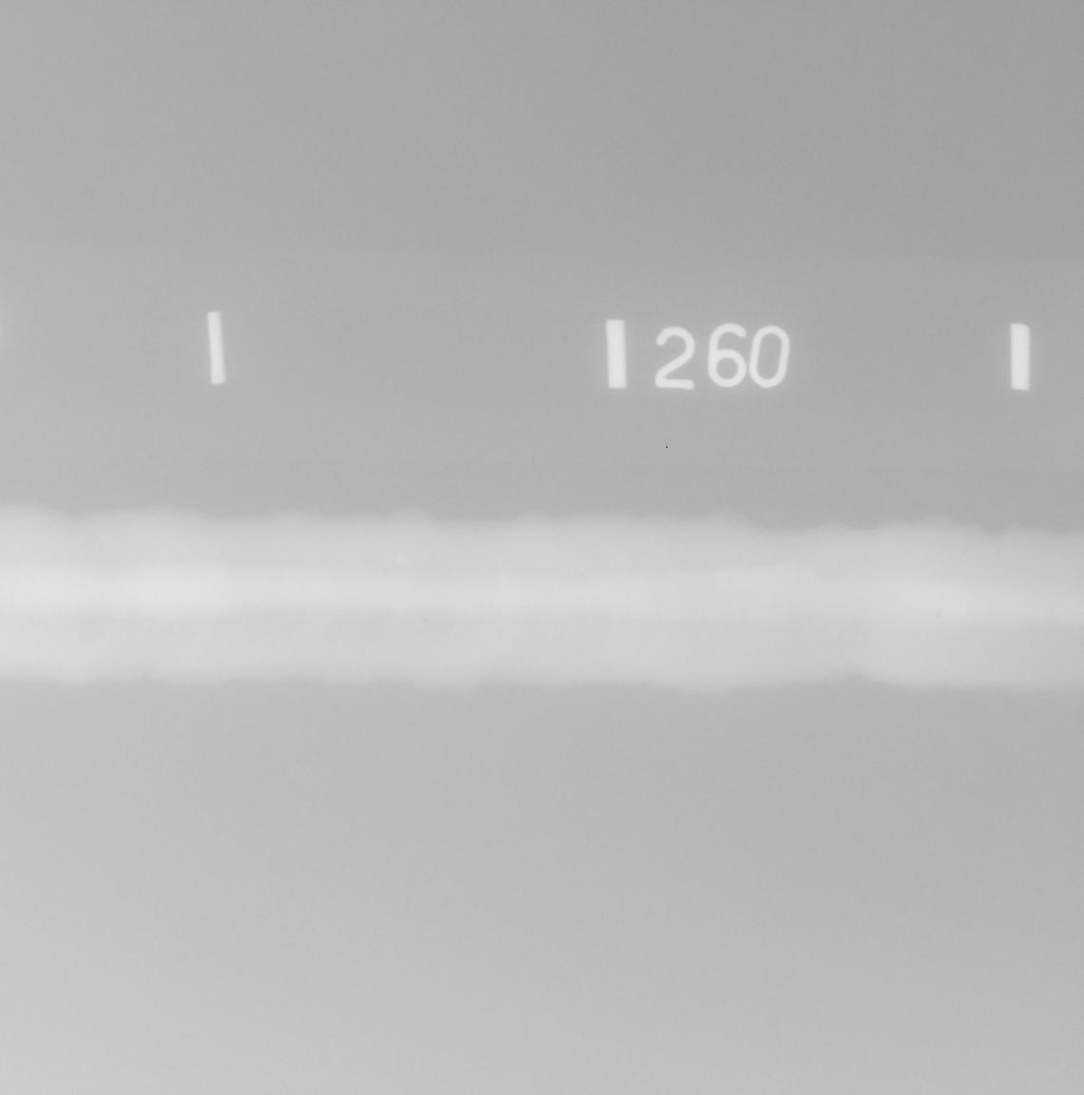Pore/Porosity: (545, 590, 552, 598), (937, 612, 941, 619), (423, 618, 428, 623)
